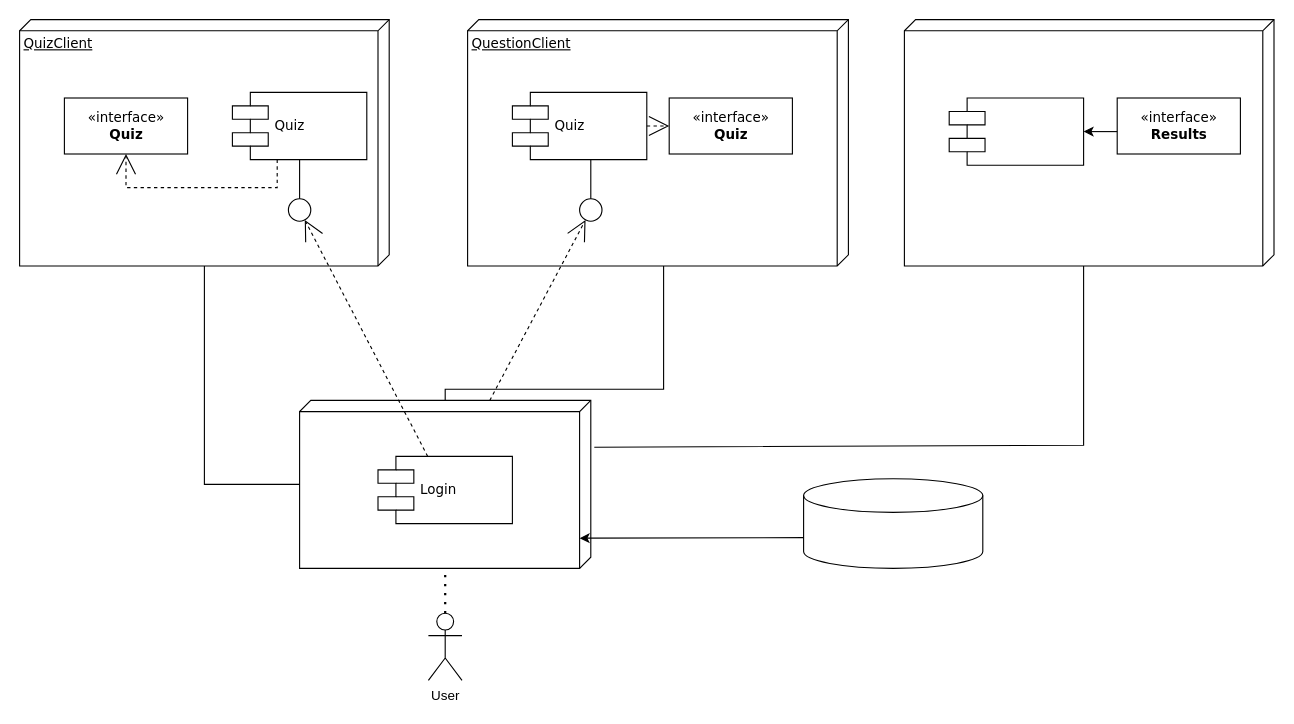
Image size: 1294x724. Some labels were removed from this diagram. Here are the shapes that lost their labels. From the top down, the box of each, then its label:
(948, 97, 1084, 165): Result
(903, 18, 1274, 266): ResultClient
(298, 399, 591, 568): LoginClient
(802, 478, 983, 568): Database
